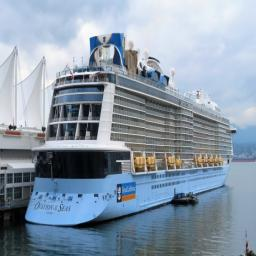cruises: (22, 31, 239, 231)
